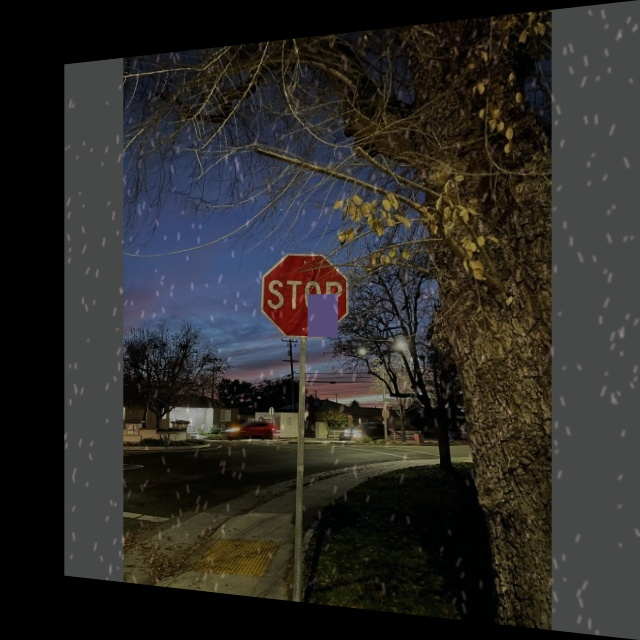Stop: (260, 253, 348, 340)
